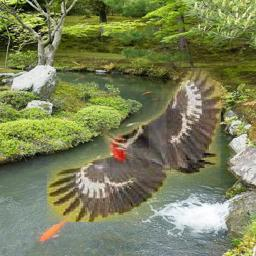Woodpecker: (47, 68, 221, 222)
